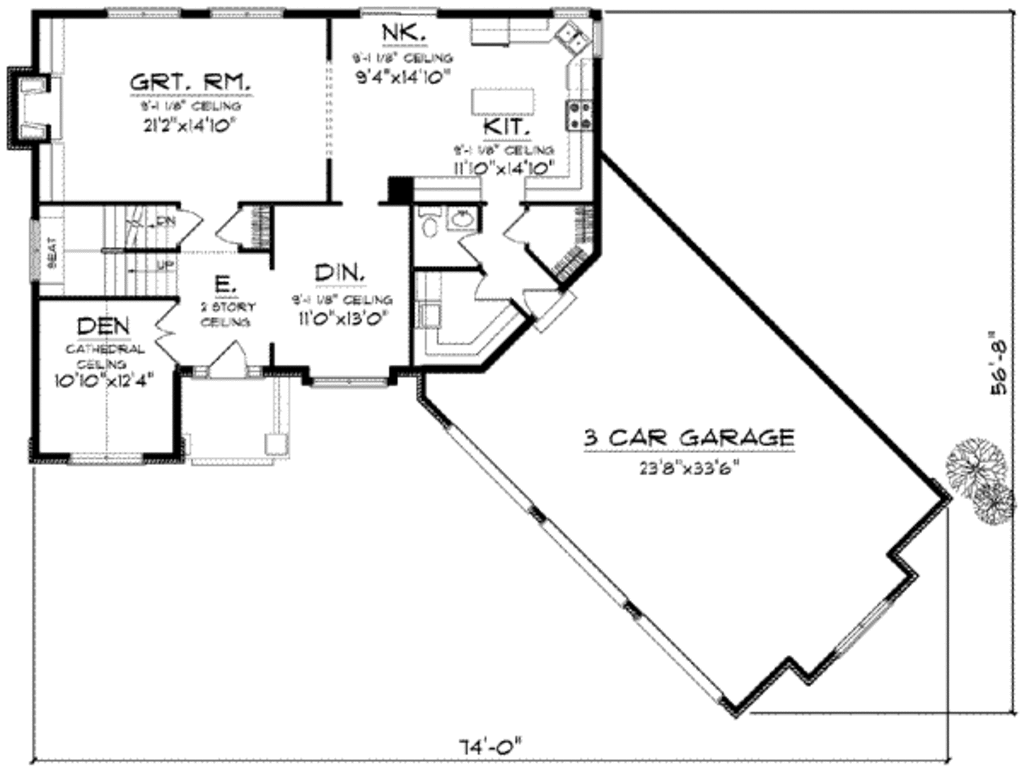door: (199, 338, 255, 380), (155, 299, 186, 362), (513, 285, 563, 324), (211, 199, 247, 253), (471, 271, 511, 309), (501, 204, 529, 248), (455, 233, 482, 272)
large_sink: (414, 200, 446, 244)
stairs: (29, 201, 185, 300)
windows: (311, 372, 396, 394), (207, 1, 281, 26), (103, 5, 185, 25), (67, 446, 142, 467)
